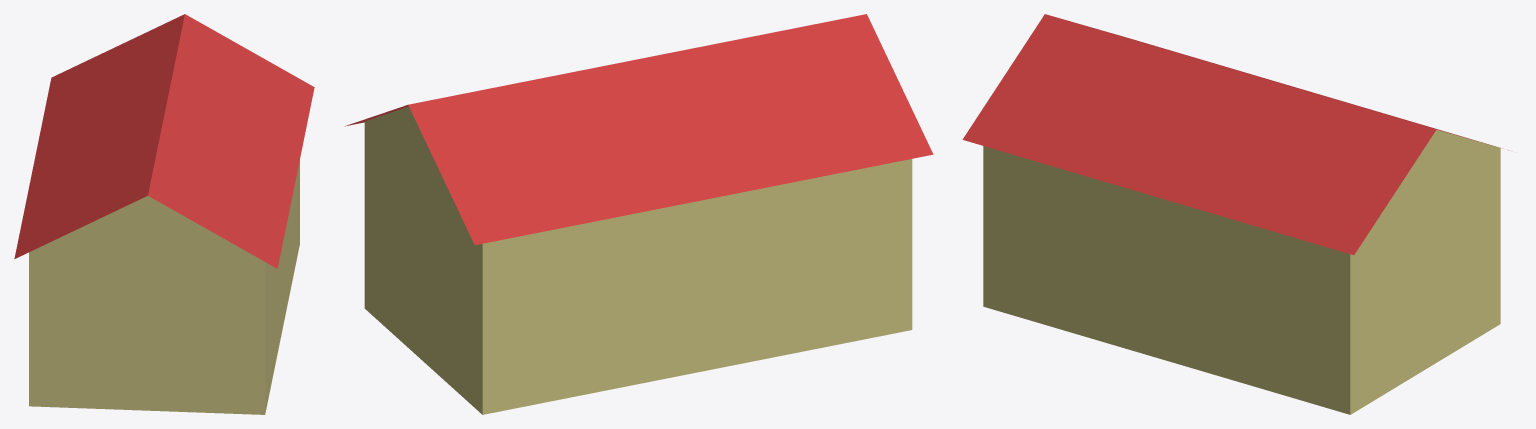
The picture shows the model from 3 angles, left to right: view 1: azimuth 30°, elevation 25°; view 2: azimuth 150°, elevation 25°; view 3: azimuth 270°, elevation 25°; orthographic projection. The views are drawn at different scales.
Size of the model in its own units: 25.44 by 27.72 by 13.36.
